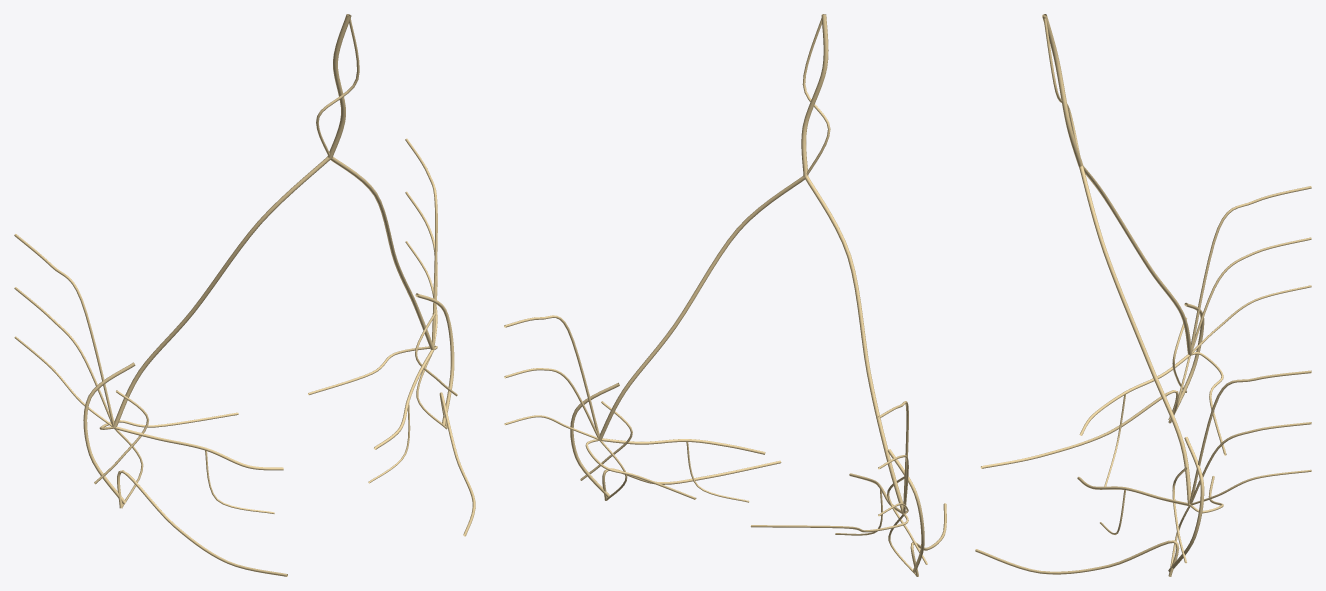
Rendered from female-pelvic-nerves.glb.
The picture shows the model from 3 angles, left to right: view 1: azimuth 30°, elevation 25°; view 2: azimuth 150°, elevation 25°; view 3: azimuth 270°, elevation 25°; orthographic projection. The views are drawn at different scales.
Parts seen in each view (by area): view 1: VMRA_FPN_HYPOGASTRIC_RIGHT, VMRA_FPN_PELVIC_SPLANCHNIC_RIGHT, VMRA_FPN_SUPERIOR, VMRA_FPN_INFERIOR_RIGHT, VMRA_FPN_PELVIC_SPLANCHNIC_LEFT, VMRA_FPN_INFERIOR_LEFT, VMRA_FPN_HYPOGASTRIC_LEFT, VMRA_FPN_UTEROVAGINAL_RIGHT, VMRA_FPN_VESICAL_RIGHT, VMRA_FPN_UTEROVAGINAL_LEFT, VMRA_FPN_VESICAL_LEFT; view 2: VMRA_FPN_HYPOGASTRIC_RIGHT, VMRA_FPN_HYPOGASTRIC_LEFT, VMRA_FPN_SUPERIOR, VMRA_FPN_PELVIC_SPLANCHNIC_LEFT, VMRA_FPN_INFERIOR_LEFT, VMRA_FPN_INFERIOR_RIGHT, VMRA_FPN_UTEROVAGINAL_LEFT, VMRA_FPN_PELVIC_SPLANCHNIC_RIGHT, VMRA_FPN_VESICAL_LEFT; view 3: VMRA_FPN_HYPOGASTRIC_LEFT, VMRA_FPN_PELVIC_SPLANCHNIC_RIGHT, VMRA_FPN_PELVIC_SPLANCHNIC_LEFT, VMRA_FPN_SUPERIOR, VMRA_FPN_INFERIOR_LEFT, VMRA_FPN_HYPOGASTRIC_RIGHT, VMRA_FPN_VESICAL_LEFT, VMRA_FPN_INFERIOR_RIGHT, VMRA_FPN_VESICAL_RIGHT, VMRA_FPN_UTEROVAGINAL_RIGHT, VMRA_FPN_UTEROVAGINAL_LEFT.
Part boxes in pixels (left/top/right/bottom): VMRA_FPN_HYPOGASTRIC_RIGHT: left=112, top=156, right=330, bottom=428; VMRA_FPN_PELVIC_SPLANCHNIC_RIGHT: left=14, top=234, right=114, bottom=426; VMRA_FPN_SUPERIOR: left=316, top=14, right=359, bottom=158; VMRA_FPN_INFERIOR_RIGHT: left=83, top=362, right=148, bottom=508; VMRA_FPN_PELVIC_SPLANCHNIC_LEFT: left=405, top=138, right=437, bottom=346; VMRA_FPN_INFERIOR_LEFT: left=415, top=293, right=457, bottom=429; VMRA_FPN_HYPOGASTRIC_LEFT: left=330, top=156, right=434, bottom=350; VMRA_FPN_UTEROVAGINAL_RIGHT: left=114, top=426, right=283, bottom=513; VMRA_FPN_VESICAL_RIGHT: left=117, top=470, right=287, bottom=576; VMRA_FPN_UTEROVAGINAL_LEFT: left=368, top=350, right=433, bottom=483; VMRA_FPN_VESICAL_LEFT: left=439, top=392, right=475, bottom=536; VMRA_FPN_HYPOGASTRIC_RIGHT: left=805, top=176, right=903, bottom=514; VMRA_FPN_HYPOGASTRIC_LEFT: left=598, top=176, right=805, bottom=440; VMRA_FPN_SUPERIOR: left=801, top=14, right=830, bottom=176; VMRA_FPN_PELVIC_SPLANCHNIC_LEFT: left=504, top=315, right=599, bottom=439; VMRA_FPN_INFERIOR_LEFT: left=570, top=382, right=632, bottom=500; VMRA_FPN_INFERIOR_RIGHT: left=887, top=449, right=927, bottom=575; VMRA_FPN_UTEROVAGINAL_LEFT: left=601, top=438, right=765, bottom=502; VMRA_FPN_PELVIC_SPLANCHNIC_RIGHT: left=877, top=401, right=908, bottom=516; VMRA_FPN_VESICAL_LEFT: left=602, top=460, right=781, bottom=500; VMRA_FPN_HYPOGASTRIC_LEFT: left=1079, top=166, right=1191, bottom=505; VMRA_FPN_PELVIC_SPLANCHNIC_RIGHT: left=1191, top=186, right=1311, bottom=353; VMRA_FPN_PELVIC_SPLANCHNIC_LEFT: left=1189, top=370, right=1311, bottom=505; VMRA_FPN_SUPERIOR: left=1042, top=14, right=1083, bottom=167; VMRA_FPN_INFERIOR_LEFT: left=1168, top=437, right=1204, bottom=571; VMRA_FPN_HYPOGASTRIC_RIGHT: left=1083, top=165, right=1192, bottom=355; VMRA_FPN_VESICAL_LEFT: left=975, top=540, right=1179, bottom=576; VMRA_FPN_INFERIOR_RIGHT: left=1168, top=302, right=1204, bottom=423; VMRA_FPN_VESICAL_RIGHT: left=980, top=390, right=1178, bottom=468; VMRA_FPN_UTEROVAGINAL_RIGHT: left=1079, top=354, right=1189, bottom=486; VMRA_FPN_UTEROVAGINAL_LEFT: left=1077, top=476, right=1188, bottom=534.
Bounding box in the file's own units: 0.1087 × 0.1367 × 0.0832.
